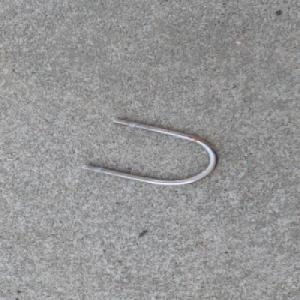ClampPart: (81, 117, 220, 186)
